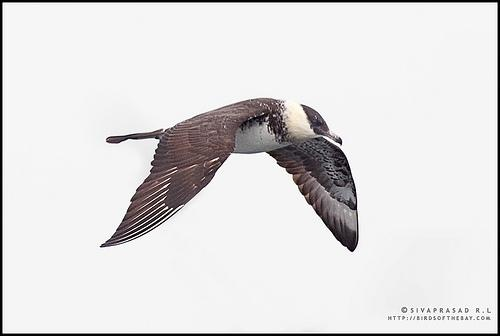bird: (95, 98, 361, 251)
